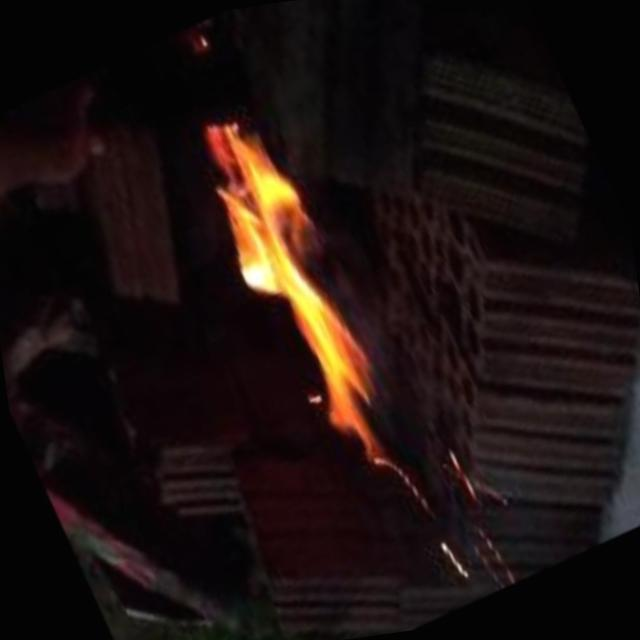fire: (127, 56, 474, 549)
